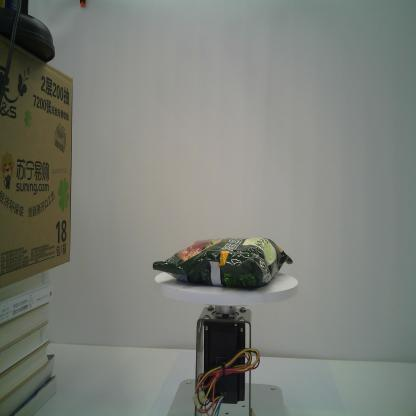Instant Noodles: (151, 231, 293, 292)
